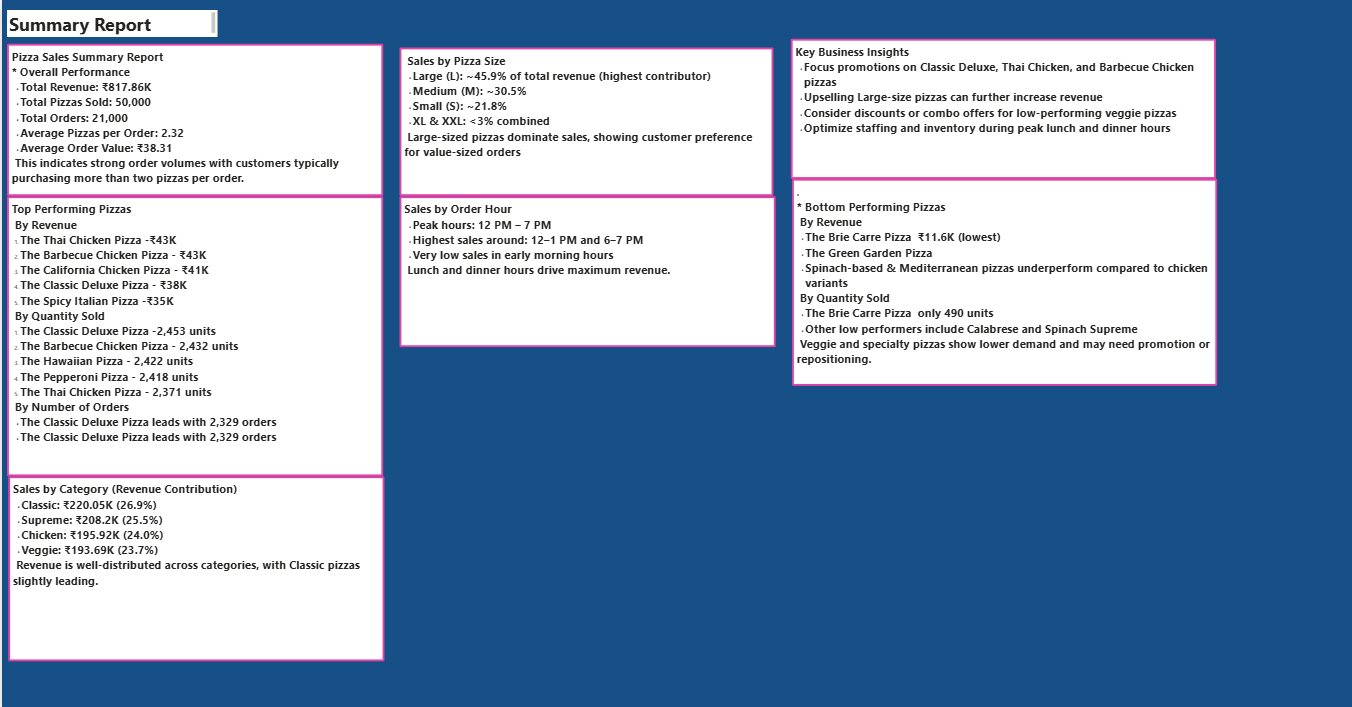

Layout of this report page (visuals, bound fields, positions):
{"tool":"powerbi","page":{"name":"Page 3","canvas":[3000,1500],"ordinal":2},"visuals":[{"type":"textbox","box":[10.3,20.5,443.6,56.4],"z":0},{"type":"textbox","box":[10.3,92.3,792.3,320.5],"z":1000},{"type":"textbox","box":[10.3,412.8,792.3,589.7],"z":2000},{"type":"textbox","box":[835.9,100,787.2,312.8],"z":3000},{"type":"textbox","box":[1664.1,376.9,894.9,435.9],"z":4000},{"type":"textbox","box":[835.9,412.8,792.3,317.9],"z":5000},{"type":"textbox","box":[12.8,1002.6,792.3,389.7],"z":6000},{"type":"textbox","box":[1661.5,82.1,894.9,294.9],"z":7000}]}

Visuals, with their boxes on the page's 3000x1500 design canvas (x1, y1, x2, y2). These are canvas units, not pixel positions in the 1352x707 screenshot, which may show the page scaled, cropped or inside an application window:
textbox: (10, 20, 454, 77)
textbox: (10, 92, 803, 413)
textbox: (10, 413, 803, 1002)
textbox: (836, 100, 1623, 413)
textbox: (1664, 377, 2559, 813)
textbox: (836, 413, 1628, 731)
textbox: (13, 1003, 805, 1392)
textbox: (1662, 82, 2556, 377)
